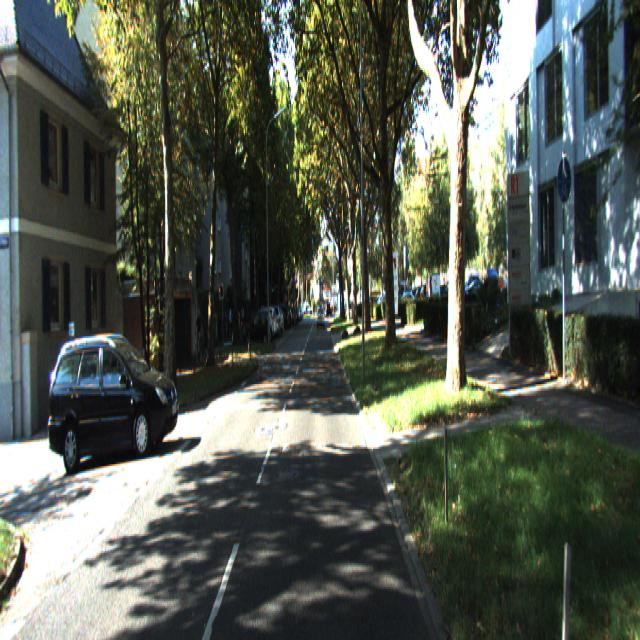Car: (48, 334, 180, 474), (242, 315, 270, 352)
